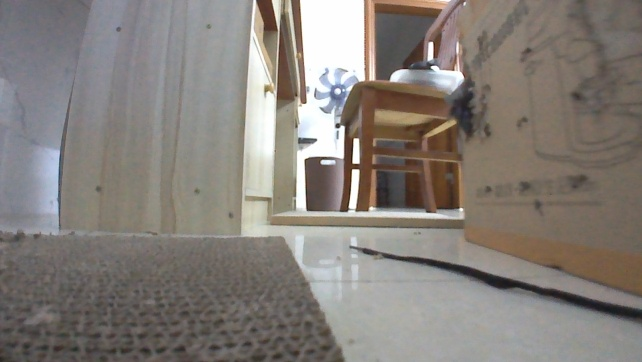blanket: (0, 229, 353, 361)
